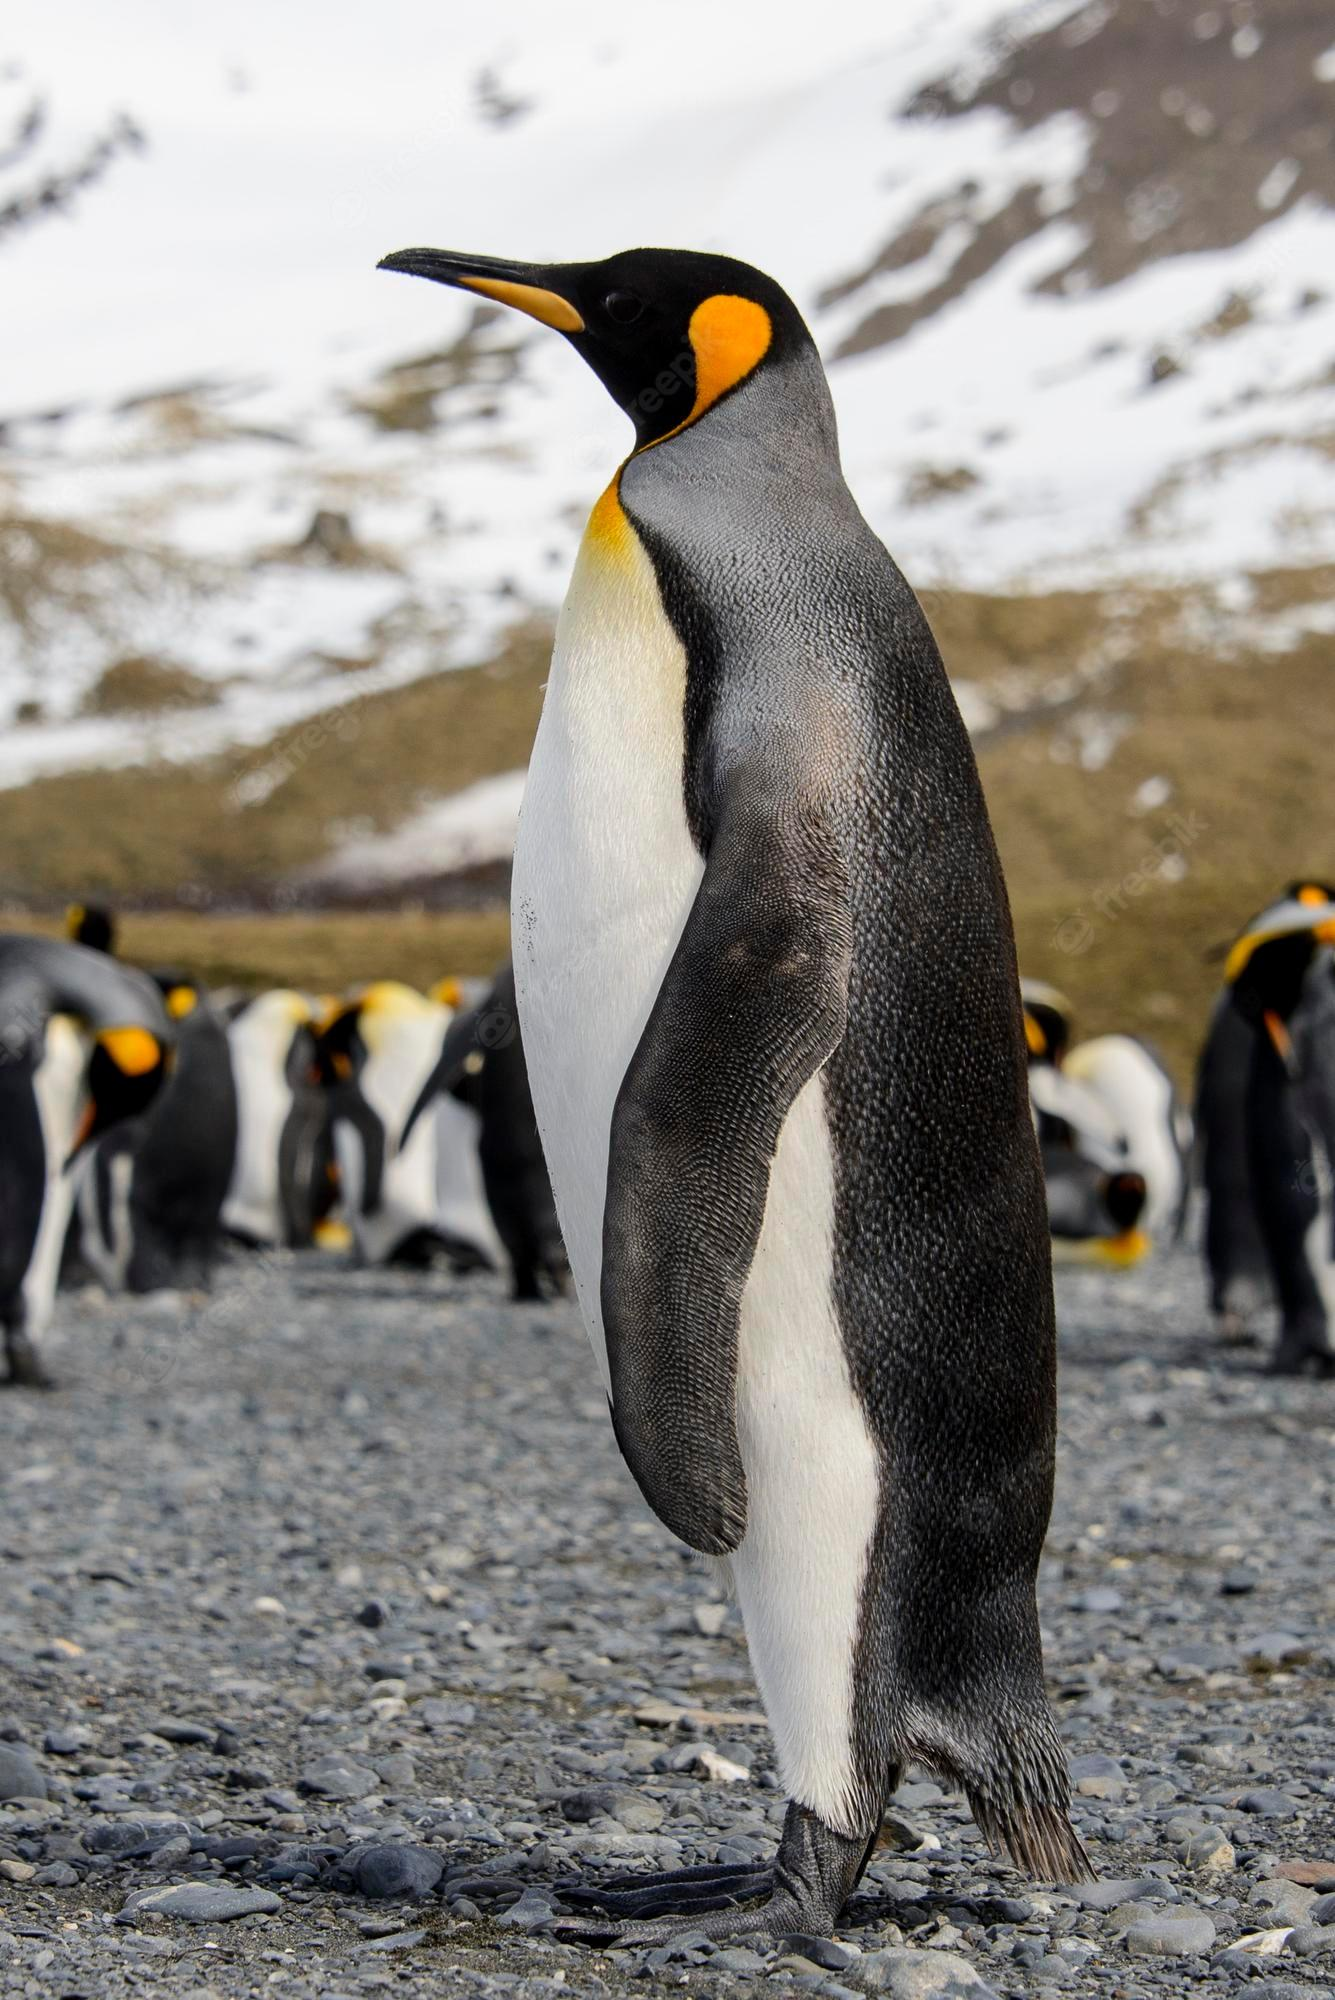king: (286, 144, 1159, 1918)
